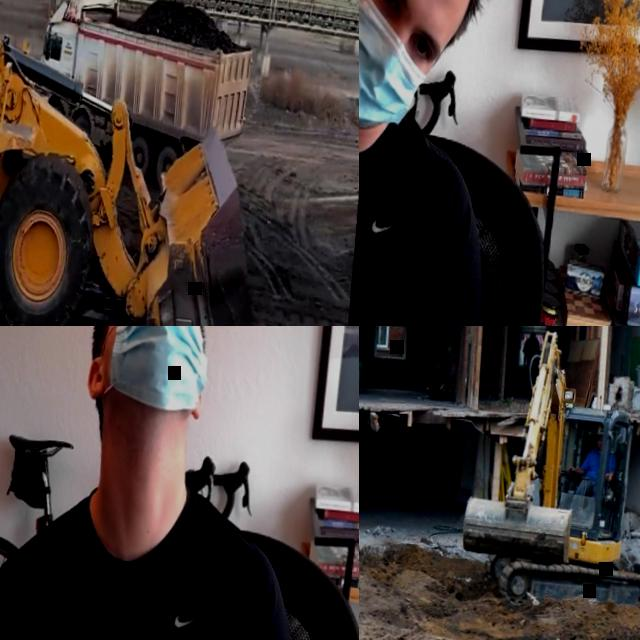machinery: (0, 0, 295, 326), (457, 326, 640, 619), (32, 0, 261, 189)
mask: (359, 0, 443, 130), (92, 326, 214, 415)
no_helmet: (596, 425, 608, 436)
no_mask: (598, 444, 602, 451)
no_vest: (0, 484, 257, 640), (359, 93, 464, 326), (587, 448, 613, 479)
person: (0, 326, 344, 640), (359, 0, 547, 326), (562, 424, 620, 517), (520, 330, 542, 382)
